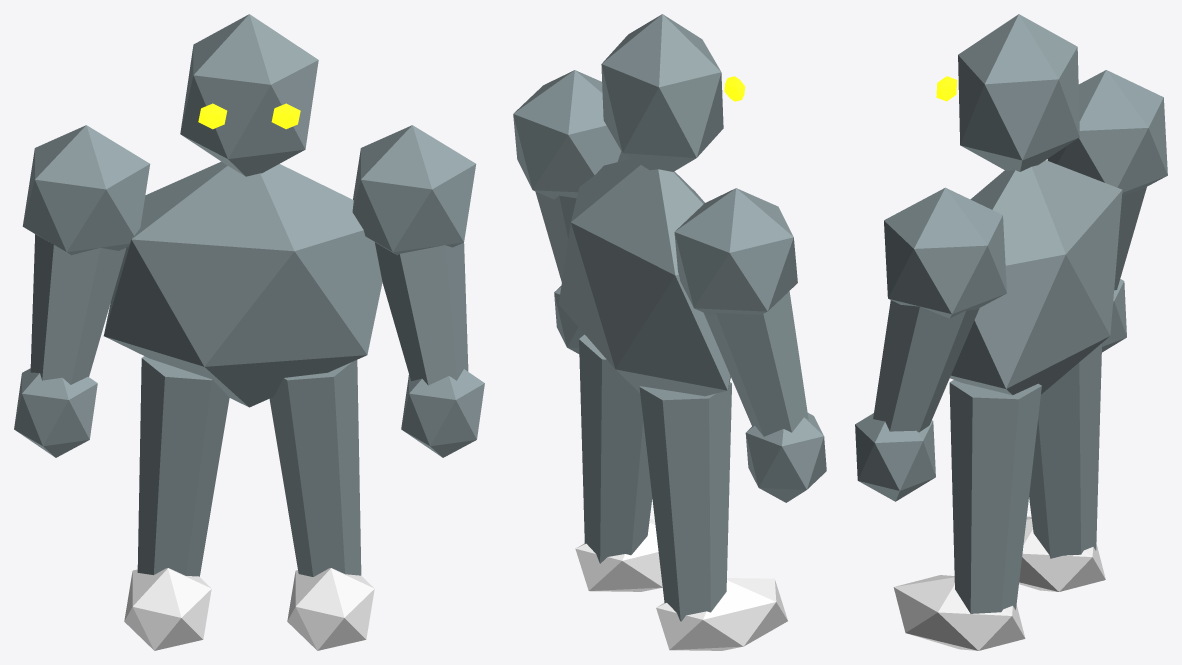
File: golem.glb
3 views of the same model, side by side, from view 1: azimuth 30°, elevation 25°; view 2: azimuth 150°, elevation 25°; view 3: azimuth 270°, elevation 25° (orthographic).
Parts seen in each view (by area): view 1: Torso.002, Leg.012, Leg.013, Head.006, Shoulder.004, Shoulder.005, Arm.006, Arm.007, Boot.004, Boot.005, Hand.004, Hand.005; view 2: Torso.002, Leg.012, Head.006, Leg.013, Shoulder.004, Shoulder.005, Arm.006, Boot.004, Hand.004, Boot.005, Arm.007, Hand.005; view 3: Torso.002, Leg.013, Head.006, Shoulder.005, Leg.012, Shoulder.004, Arm.007, Boot.005, Hand.005, Boot.004, Arm.006, Hand.004.
Boxes of the visible parts, x1,y1,x2,y2 form: Torso.002: (103, 161, 382, 407); Leg.012: (137, 356, 229, 576); Leg.013: (269, 360, 361, 576); Head.006: (180, 14, 318, 176); Shoulder.004: (22, 125, 150, 255); Shoulder.005: (352, 125, 476, 255); Arm.006: (30, 234, 126, 384); Arm.007: (374, 242, 468, 385); Boot.004: (124, 568, 211, 650); Boot.005: (287, 568, 374, 650); Hand.004: (14, 368, 97, 457); Hand.005: (401, 369, 484, 457); Torso.002: (558, 158, 730, 396); Leg.012: (639, 382, 731, 621); Head.006: (601, 14, 723, 171); Leg.013: (579, 334, 652, 563); Shoulder.004: (674, 188, 797, 316); Shoulder.005: (513, 70, 630, 199); Arm.006: (704, 290, 808, 436); Boot.004: (656, 578, 787, 650); Hand.004: (745, 413, 826, 502); Boot.005: (575, 519, 662, 591); Arm.007: (535, 191, 576, 282); Hand.005: (554, 286, 584, 353); Torso.002: (950, 160, 1122, 395); Leg.013: (949, 380, 1041, 613); Head.006: (958, 14, 1079, 171); Shoulder.005: (884, 187, 1006, 318); Leg.012: (1029, 343, 1101, 558); Shoulder.004: (1047, 70, 1167, 195); Arm.007: (873, 300, 979, 432); Boot.005: (893, 575, 1025, 650); Hand.005: (855, 413, 935, 501); Boot.004: (1019, 516, 1105, 591); Arm.006: (1114, 187, 1146, 290); Hand.004: (1102, 279, 1126, 352).
Size of the model in its own units: 2.13 by 3.35 by 1.56.
